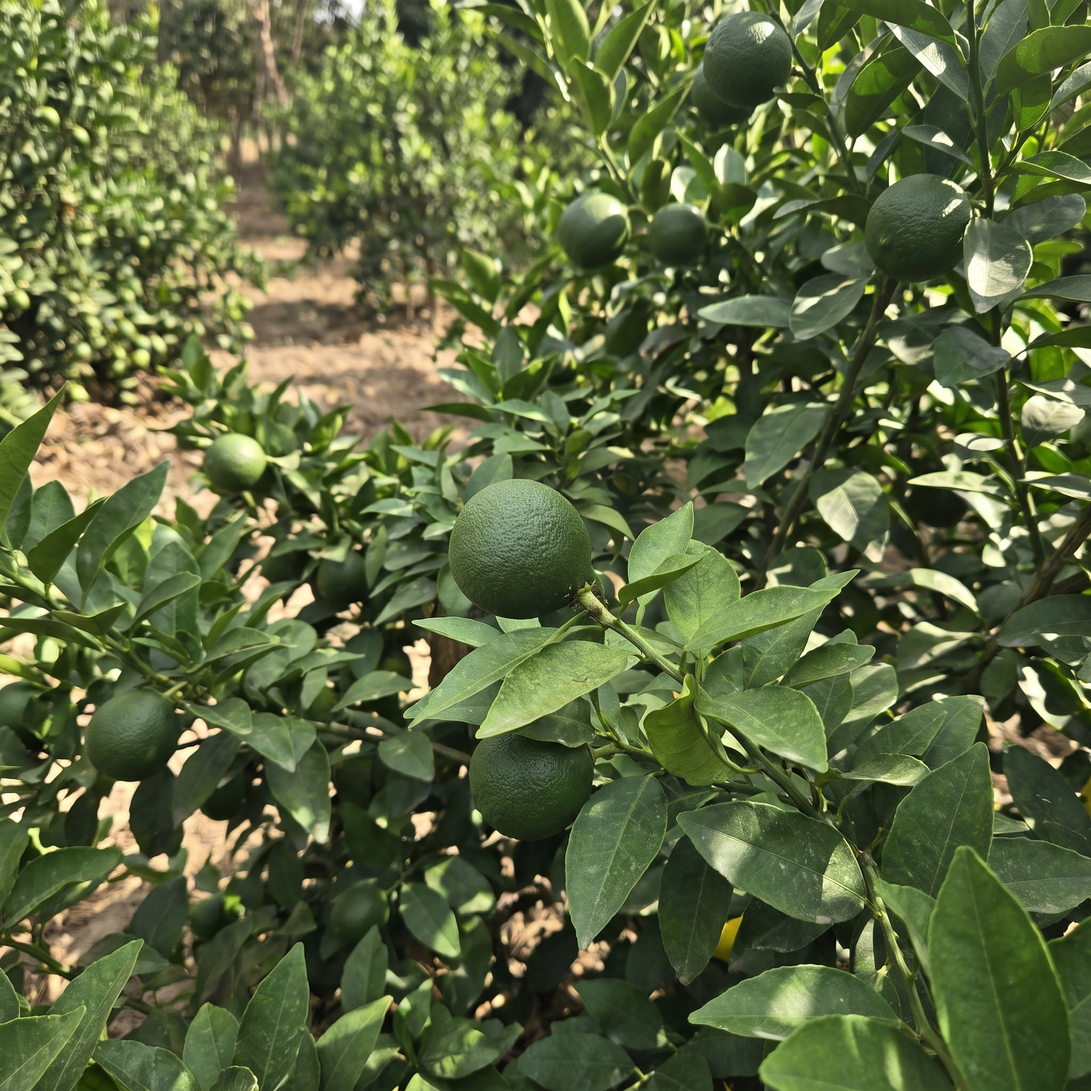fruit: (449, 479, 593, 618), (469, 732, 593, 840), (865, 174, 970, 281), (85, 688, 180, 781), (703, 12, 792, 109), (557, 192, 629, 268), (202, 433, 267, 492), (690, 66, 751, 127), (647, 203, 707, 265), (330, 881, 389, 942), (316, 550, 368, 605), (201, 772, 247, 820), (189, 894, 228, 941), (0, 682, 38, 727)
